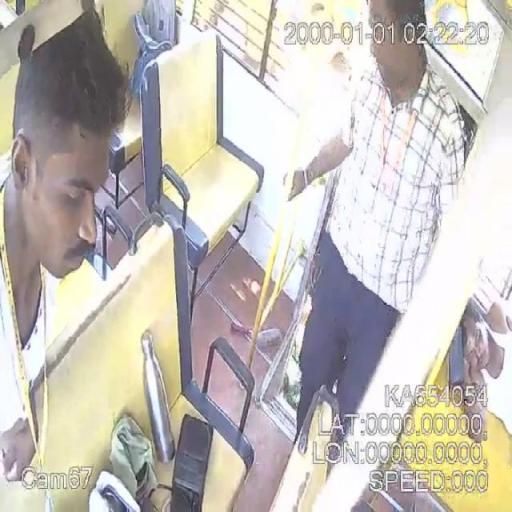persona: (282, 1, 476, 446), (0, 1, 132, 486)
